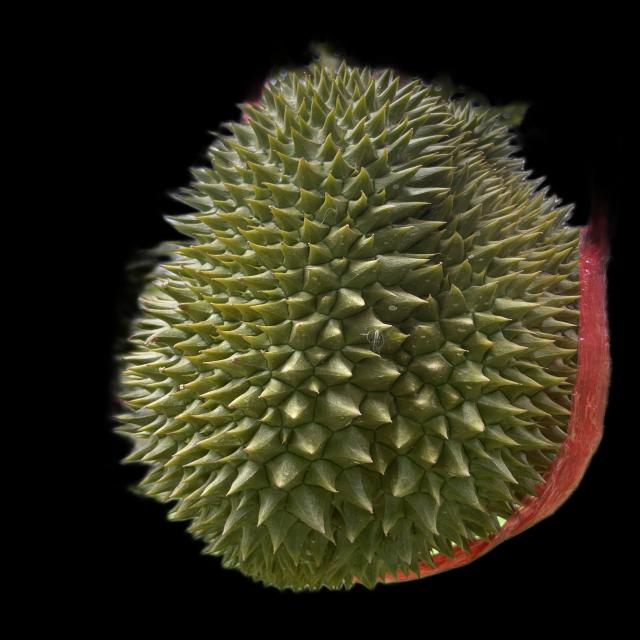immature: (118, 63, 580, 585)
